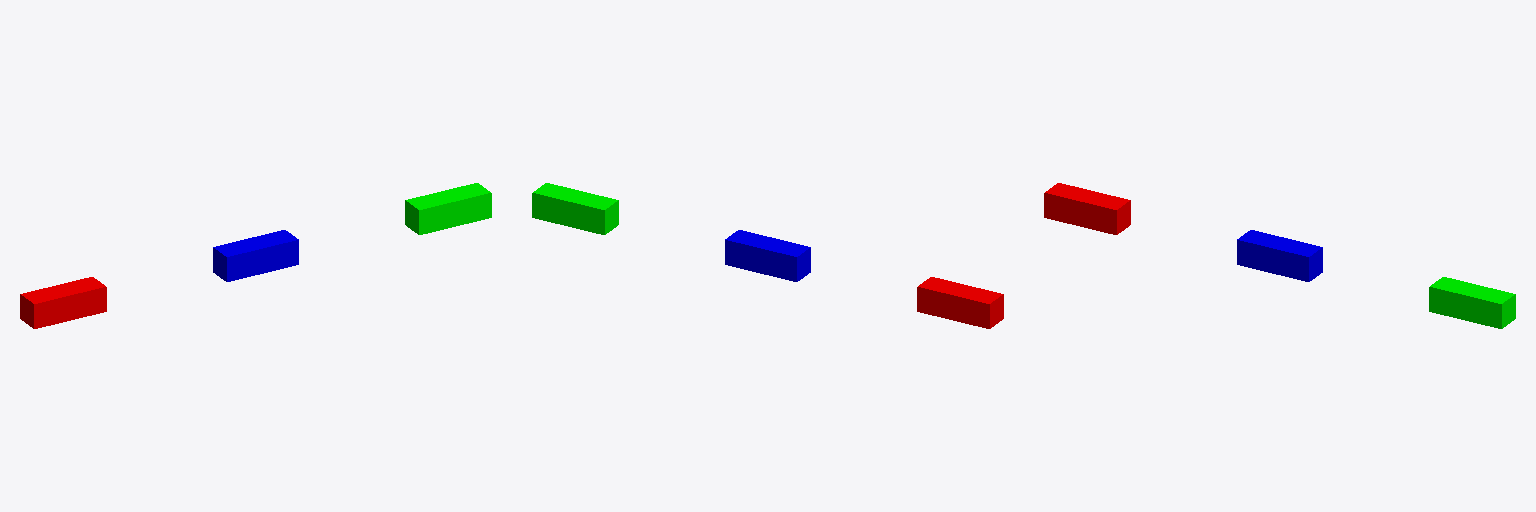
The robot description file, URDF, robot "three_cube_chain":
<?xml version="1.0"?>
<robot name="three_cube_chain">
  <!-- Base link (fixed cube) -->
  <link name="base">
    <visual>
      <geometry>
        <box size="0.3 0.1 0.1"/>
      </geometry>
      <origin xyz="0 0 0" rpy="0 0 0"/>
      <material name="red">
        <color rgba="1 0 0 1"/>
      </material>
    </visual>
    <collision>
      <geometry>
        <box size="0.3 0.1 0.1"/>
      </geometry>
      <origin xyz="0 0 0" rpy="0 0 0"/>
    </collision>
    <inertial>
      <mass value="1.0"/>
      <inertia ixx="0.00667" ixy="0.0" ixz="0.0" iyy="0.00667" iyz="0.0" izz="0.00667"/>
      <origin xyz="0 0 0" rpy="0 0 0"/>
    </inertial>
  </link>

  <!-- Second link (cube connected by joint1) -->
  <link name="moving1">
    <visual>
      <geometry>
        <box size="0.3 0.1 0.1"/>
      </geometry>
      <origin xyz="0.4 0 0" rpy="0 0 0"/>
      <material name="blue">
        <color rgba="0 0 1 1"/>
      </material>
    </visual>
    <collision>
      <geometry>
        <box size="0.3 0.1 0.1"/>
      </geometry>
      <origin xyz="0.4 0 0" rpy="0 0 0"/>
    </collision>
    <inertial>
      <mass value="1.0"/>
      <inertia ixx="0.00667" ixy="0.0" ixz="0.0" iyy="0.00667" iyz="0.0" izz="0.00667"/>
      <origin xyz="0 0 0" rpy="0 0 0"/>
    </inertial>
  </link>

  <!-- Third link (cube connected by joint2) -->
  <link name="moving2">
    <visual>
      <geometry>
        <box size="0.3 0.1 0.1"/>
      </geometry>
      <origin xyz="0.4 0 0" rpy="0 0 0"/>
      <material name="green">
        <color rgba="0 1 0 1"/>
      </material>
    </visual>
    <collision>
      <geometry>
        <box size="0.3 0.1 0.1"/>
      </geometry>
      <origin xyz="0.4 0 0" rpy="0 0 0"/>
    </collision>
    <inertial>
      <mass value="1.0"/>
      <inertia ixx="0.00667" ixy="0.0" ixz="0.0" iyy="0.00667" iyz="0.0" izz="0.00667"/>
      <origin xyz="0 0 0" rpy="0 0 0"/>
    </inertial>
  </link>

  <!-- Revolute joint connecting base to moving1 (rotates around Z axis) -->
  <joint name="joint1" type="revolute">
    <parent link="base"/>
    <child link="moving1"/>
    <origin xyz="0.4 0 0" rpy="0 0 0"/>
    <axis xyz="0 0 1"/>
    <limit lower="-1.57" upper="1.57" effort="100" velocity="1.0"/>
  </joint>

  <!-- Revolute joint connecting moving1 to moving2 (rotates around Y axis) -->
  <joint name="joint2" type="revolute">
    <parent link="moving1"/>
    <child link="moving2"/>
    <origin xyz="0.8 0 0" rpy="0 0 0"/>
    <axis xyz="0 0 1"/>
    <limit lower="-1.57" upper="1.57" effort="100" velocity="1.0"/>
  </joint>

</robot>

--- Render facts (derived) ---
The picture shows the robot from 3 angles, left to right: view 1: azimuth 30°, elevation 25°; view 2: azimuth 150°, elevation 25°; view 3: azimuth 330°, elevation 25°; orthographic projection.
Model three_cube_chain with 3 links and 2 joints (2 revolute), rooted at base, posed every joint at zero.
Links seen in each view (by area): view 1: base, moving2, moving1; view 2: base, moving2, moving1; view 3: base, moving2, moving1.
Link boxes in pixels (bbox=[...]): base: bbox=[20, 277, 106, 328]; moving2: bbox=[405, 183, 491, 234]; moving1: bbox=[213, 230, 298, 281]; base: bbox=[917, 277, 1003, 328]; moving2: bbox=[532, 183, 618, 234]; moving1: bbox=[725, 230, 810, 281]; base: bbox=[1044, 183, 1130, 234]; moving2: bbox=[1429, 277, 1515, 328]; moving1: bbox=[1237, 230, 1322, 281].
Size in the robot's own frame: 1.9 by 0.1 by 0.1 metres.
Geometry: primitives only (box / cylinder / sphere), no mesh files.
